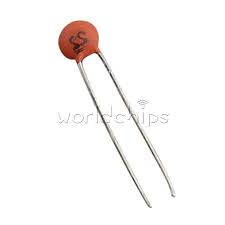ceramic capacitor: (38, 11, 147, 100)
